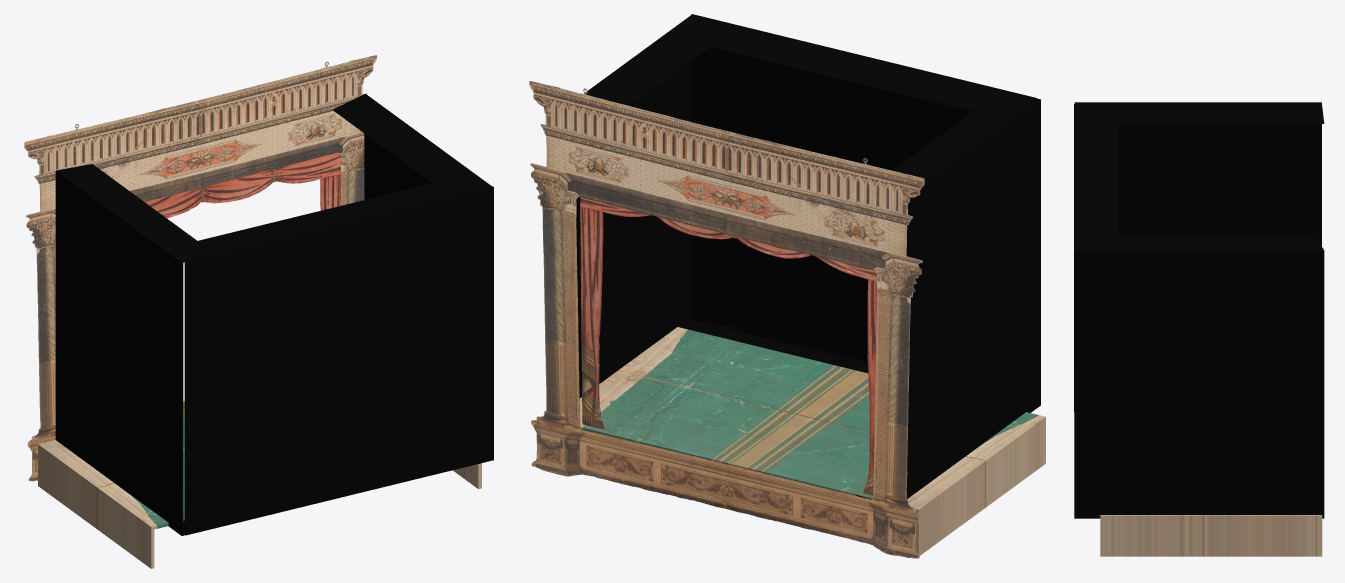
File: Stage_Parent.glb
3 views of the same model, side by side, from view 1: azimuth 30°, elevation 25°; view 2: azimuth 150°, elevation 25°; view 3: azimuth 270°, elevation 25° (orthographic). The views are drawn at different scales.
Visible parts, largest first — view 1: Cube.003, Cube, Stage_Front, Ground_Box, Cube.001, Curtain; view 2: Stage_Front, Cube.003, Cube, Ground_Box, Cube.001, Curtain; view 3: Cube.001, Cube, Ground_Box, Cube.003.
Part boxes in pixels (x1=…): Cube.003: x1=183, y1=183, x2=493, y2=535; Cube: x1=55, y1=164, x2=196, y2=535; Stage_Front: x1=24, y1=55, x2=377, y2=481; Ground_Box: x1=38, y1=408, x2=481, y2=568; Cube.001: x1=332, y1=94, x2=491, y2=199; Curtain: x1=145, y1=152, x2=341, y2=218; Stage_Front: x1=529, y1=81, x2=924, y2=558; Cube.003: x1=685, y1=14, x2=1037, y2=373; Cube: x1=856, y1=99, x2=1040, y2=498; Ground_Box: x1=579, y1=327, x2=1045, y2=555; Cube.001: x1=576, y1=15, x2=734, y2=398; Curtain: x1=580, y1=197, x2=876, y2=495; Cube.001: x1=1076, y1=236, x2=1324, y2=518; Cube: x1=1074, y1=102, x2=1324, y2=373; Ground_Box: x1=1100, y1=515, x2=1322, y2=556; Cube.003: x1=1074, y1=104, x2=1118, y2=518.
Size of the model in its own units: 1.4 by 1.4 by 0.8609.
4 materials, 3 textured.
